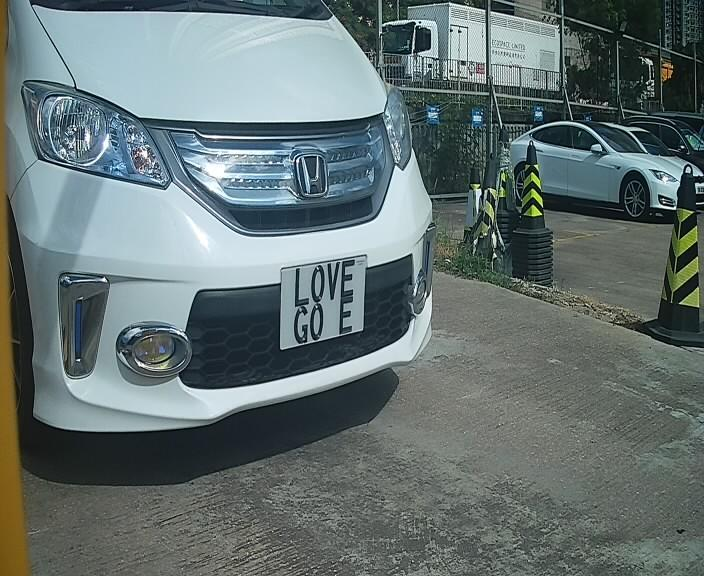License Plate: (271, 237, 368, 358)
